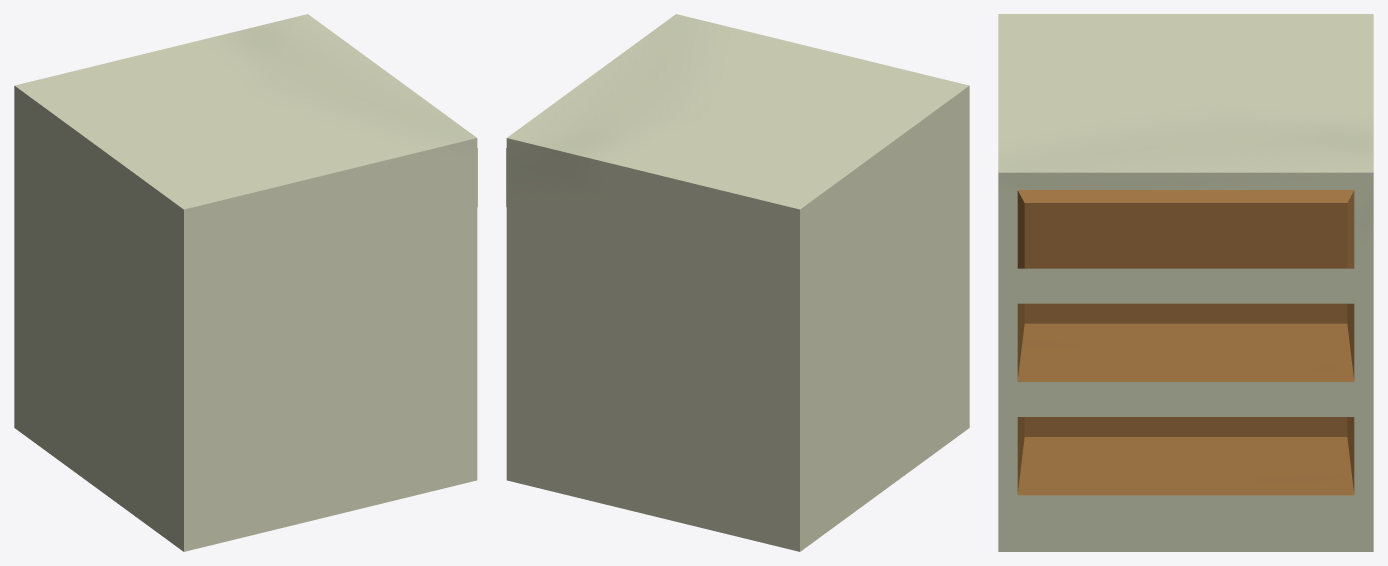
Rendered from estantepequena.fbx.
The picture shows the model from 3 angles, left to right: view 1: azimuth 30°, elevation 25°; view 2: azimuth 150°, elevation 25°; view 3: azimuth 270°, elevation 25°; orthographic projection. The views are drawn at different scales.
Visible parts, largest first — view 1: Cube; view 2: Cube; view 3: Cube.
Part boxes in pixels (x1,y1,x2,y2): Cube: [14, 14, 477, 551]; Cube: [506, 14, 969, 551]; Cube: [998, 14, 1373, 551].
Bounding box in the file's own units: 208 × 223 × 200.
1 material, 1 textured.
